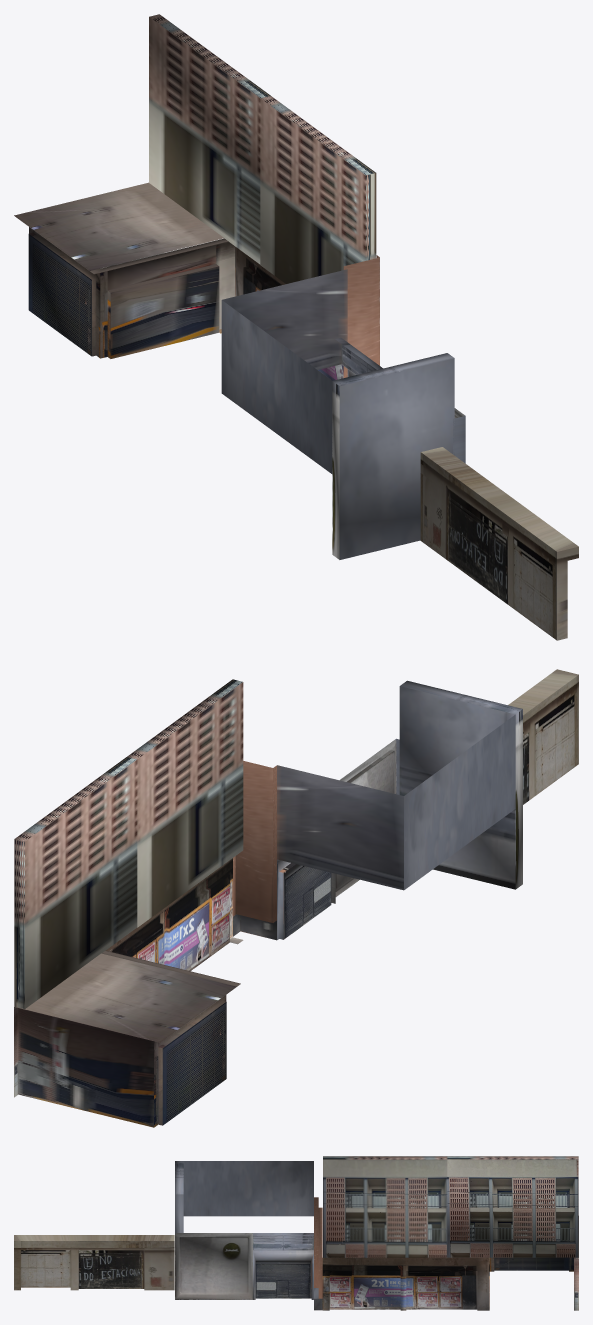
The model's file is EdificioEnContruccion_ClubFormoza_NoEStacionar_AchavalRodriguez.fbx.
3 views of the same model, one above another, from view 1: azimuth 30°, elevation 25°; view 2: azimuth 150°, elevation 25°; view 3: azimuth 270°, elevation 25° (orthographic). The views are drawn at different scales.
Visible parts, largest first — view 1: Cube.013, Cube.015, Cube.014; view 2: Cube.013, Cube.015, Cube.014, Door_Formoza; view 3: Cube.013, Cube.015, Cube.014, Door_Formoza.
Boxes of the visible parts, x1,y1,x2,y2 form: Cube.013: (14,14,376,380); Cube.015: (221,255,465,559); Cube.014: (420,447,578,640); Cube.013: (14,679,243,1127); Cube.015: (233,680,522,940); Cube.014: (508,669,578,804); Door_Formoza: (283,864,331,939); Cube.013: (322,1156,578,1310); Cube.015: (175,1161,322,1310); Cube.014: (14,1235,174,1290); Door_Formoza: (255,1260,311,1298).
Size of the model in its own units: 15.3 by 23.09 by 78.24.
